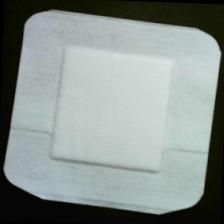Dressing: (3, 7, 224, 219)
